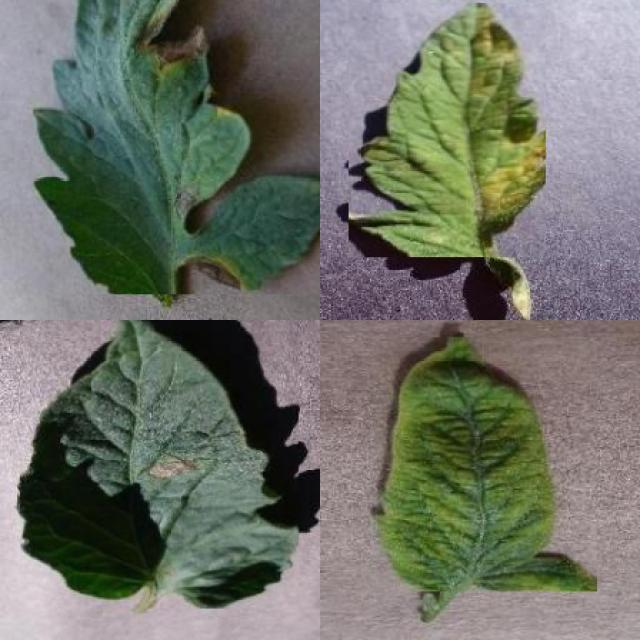Early Blight: (33, 0, 320, 294), (18, 322, 298, 608)
Leaf Mold: (349, 3, 546, 257)
Yellow Leaf Curl Virus: (370, 338, 597, 592)
